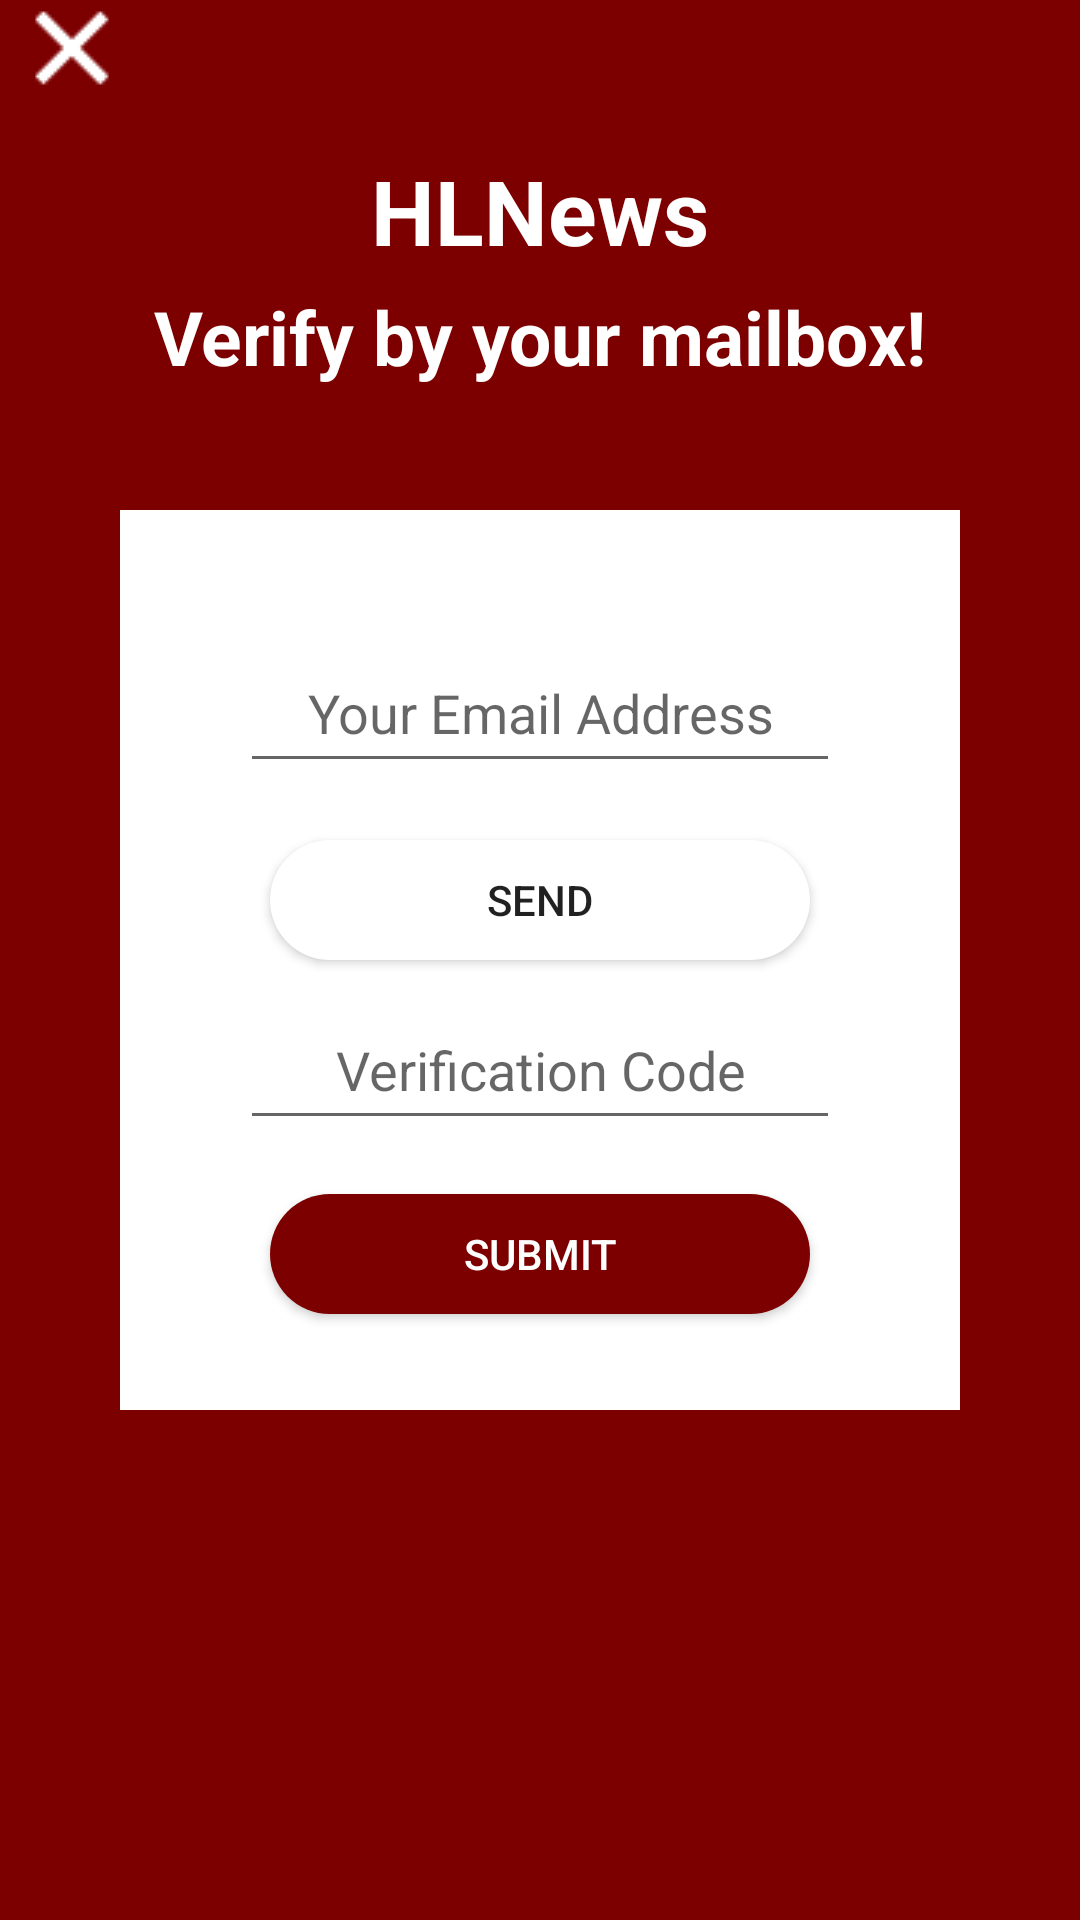

Screen size 1080 x 1920. Icon name, then its center in pixels as point (x, y):
cancel: point (72, 48)
